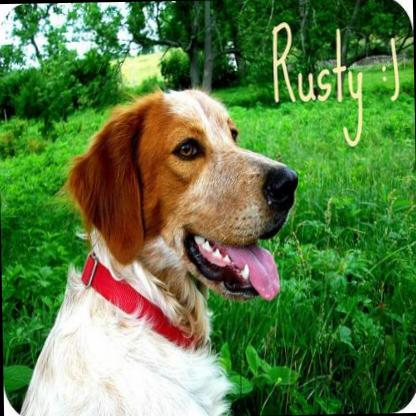Brittany_spaniel: (12, 77, 304, 416)
